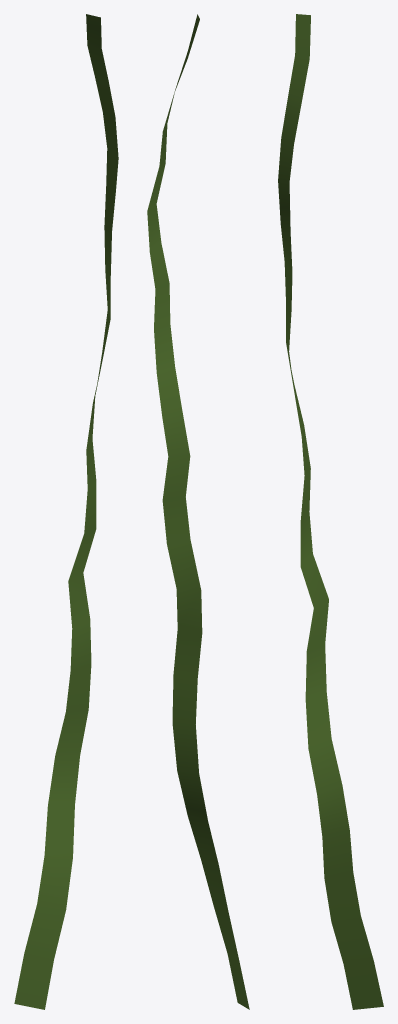
File: plant_swamp_kelp_long_solo_S.fbx
The picture shows the model from 3 angles, left to right: view 1: azimuth 90°, elevation 25°; view 2: azimuth 210°, elevation 25°; view 3: azimuth 270°, elevation 25°; orthographic projection. The views are drawn at different scales.
Parts seen in each view (by area): view 1: plant_swamp_kelp_long_solo_S; view 2: plant_swamp_kelp_long_solo_S; view 3: plant_swamp_kelp_long_solo_S.
Part boxes in pixels (<box>): plant_swamp_kelp_long_solo_S: <box>14,14,118,1009</box>; plant_swamp_kelp_long_solo_S: <box>147,14,249,1009</box>; plant_swamp_kelp_long_solo_S: <box>278,14,383,1009</box>.
Size of the model in its own units: 15.32 by 236 by 22.63.
